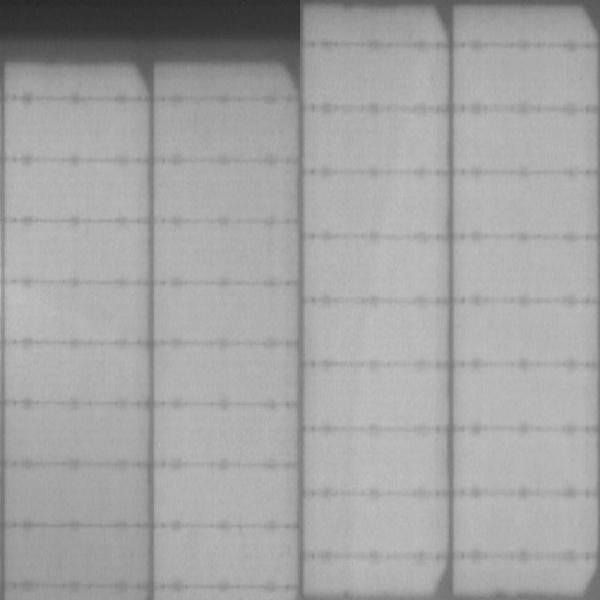no_electricity: (1, 1, 299, 39)
